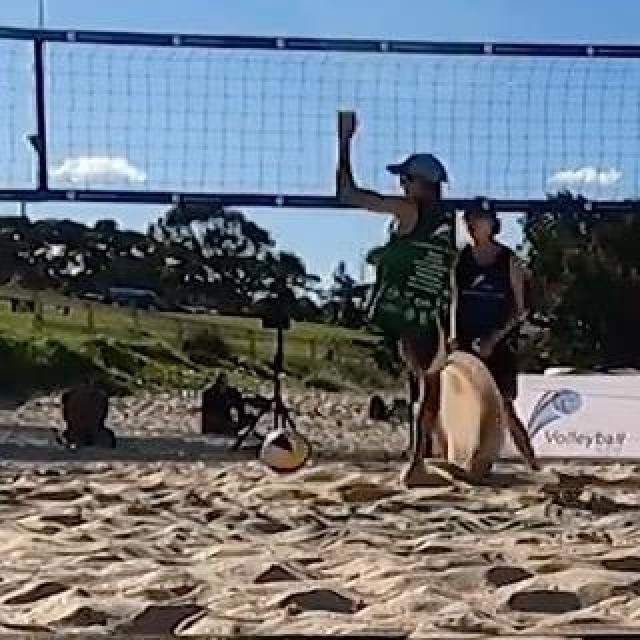volleyball: (261, 427, 311, 473)
